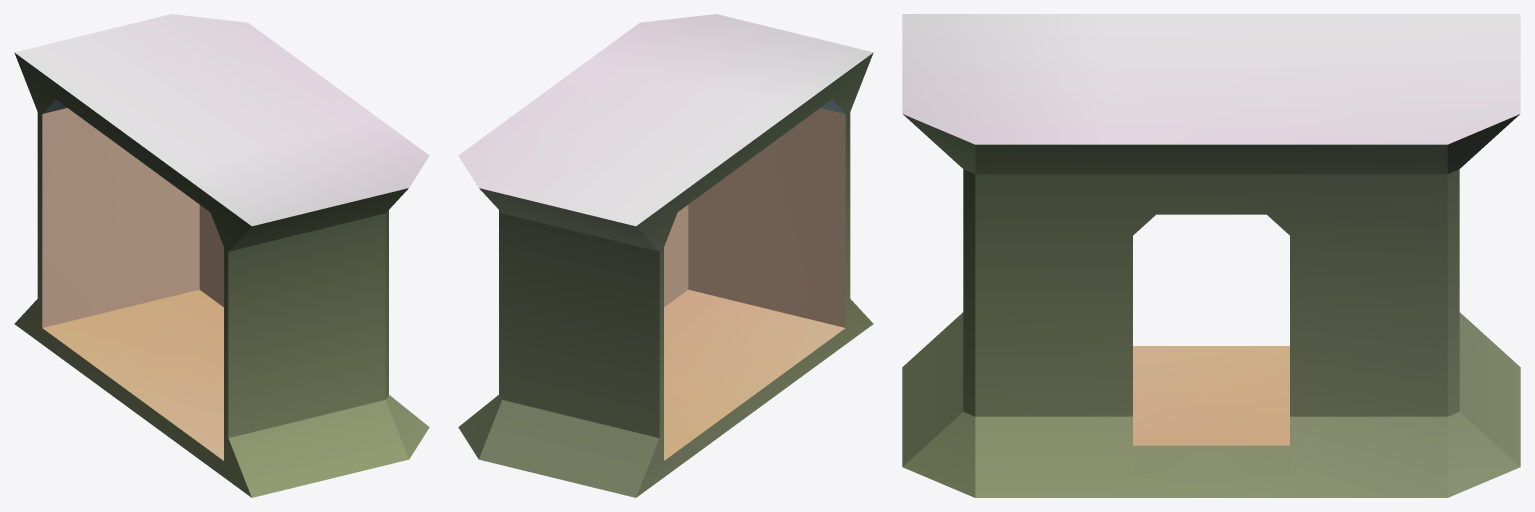
File: R_1_Door.fbx
The picture shows the model from 3 angles, left to right: view 1: azimuth 30°, elevation 25°; view 2: azimuth 150°, elevation 25°; view 3: azimuth 270°, elevation 25°; orthographic projection. The views are drawn at different scales.
Parts seen in each view (by area): view 1: R_1_Door; view 2: R_1_Door; view 3: R_1_Door.
Boxes of the visible parts, x1=… form: R_1_Door: x1=14, y1=14, x2=429, y2=497; R_1_Door: x1=458, y1=14, x2=873, y2=497; R_1_Door: x1=902, y1=14, x2=1520, y2=497.
Size of the model in its own units: 2.62 by 5.23 by 3.3.
